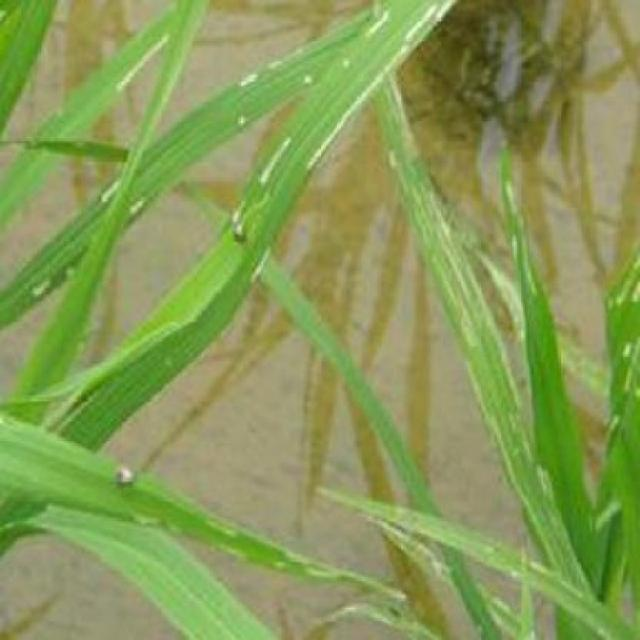rice-bug: (229, 212, 251, 242), (115, 462, 138, 488)
